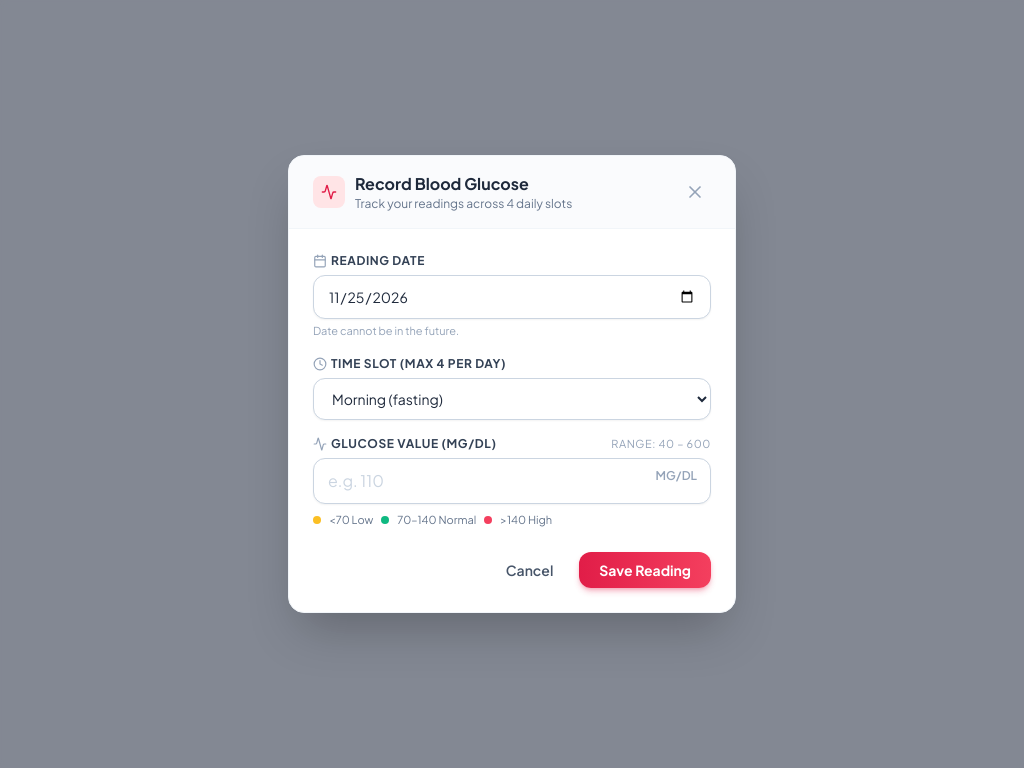
Test: ReadingModal Form Component & Validation Rules › displays exact error "Please enter a glucose value." when value is empty
Click the button with test id "submit-reading-btn" at (645, 570), box [579, 552, 711, 588]
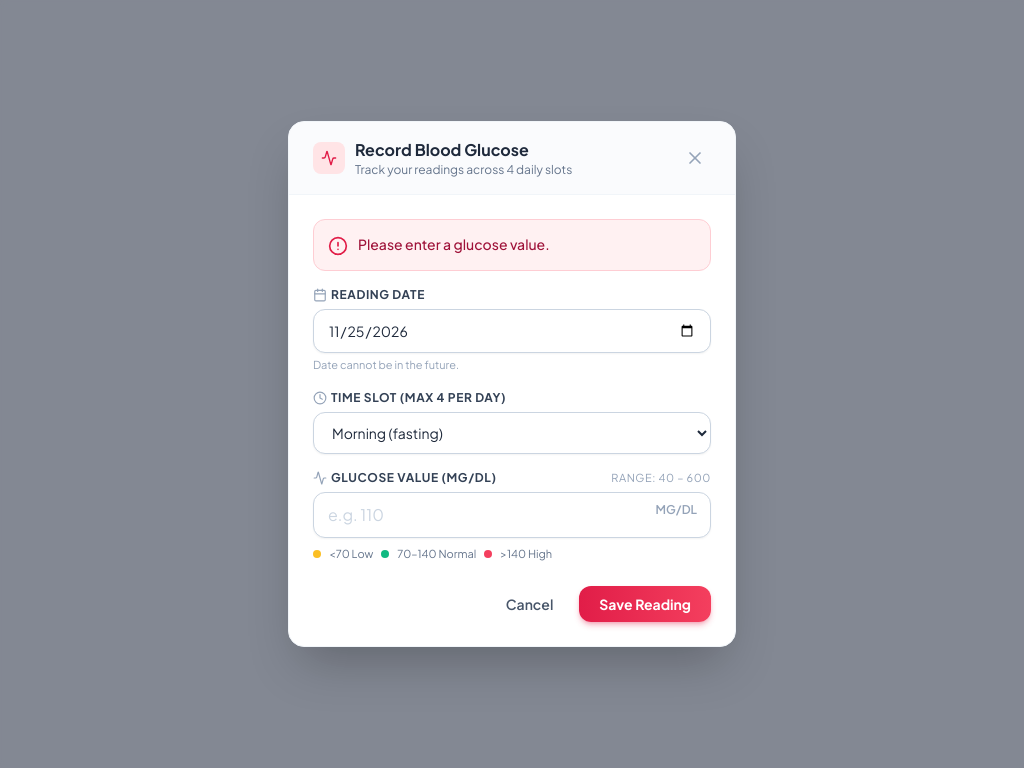
Expected: the message "Please enter a glucose value." is shown, [313, 219, 711, 271]
Expected: the message with test id "validation-error-message" reads "Please enter a glucose value.", [358, 235, 550, 253]
